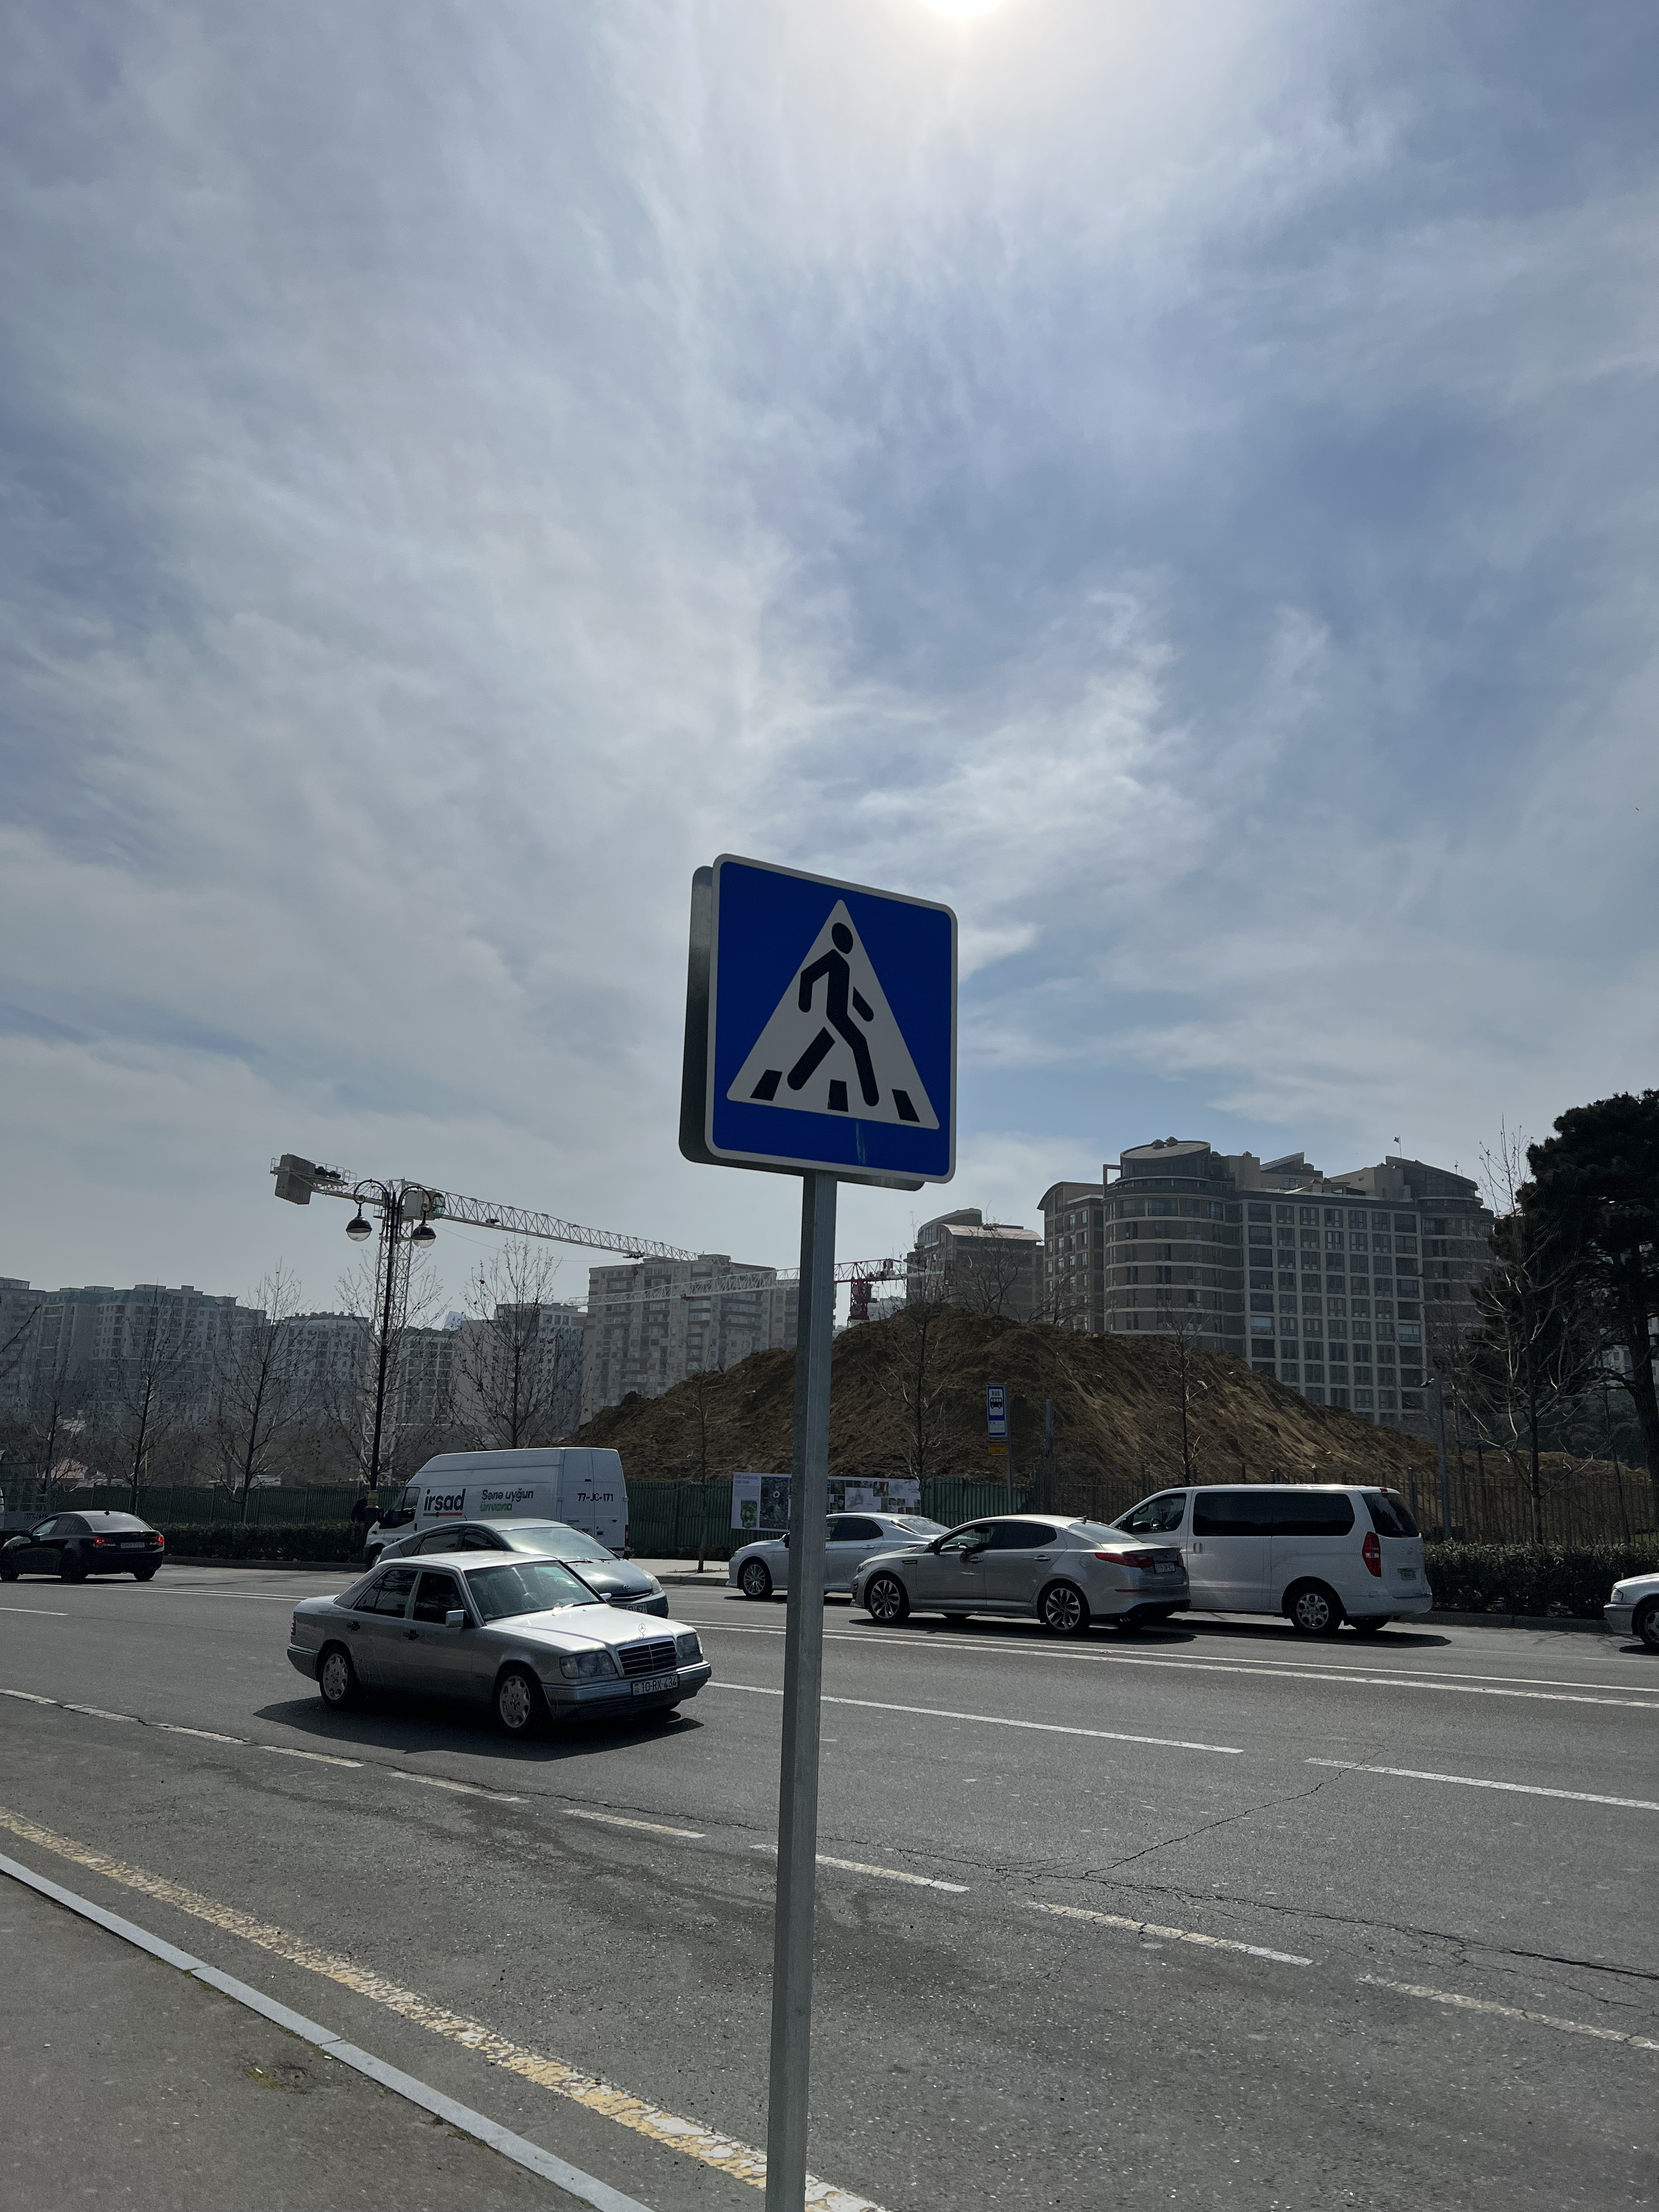Pedestrian Crossing: (709, 857, 955, 1184)
